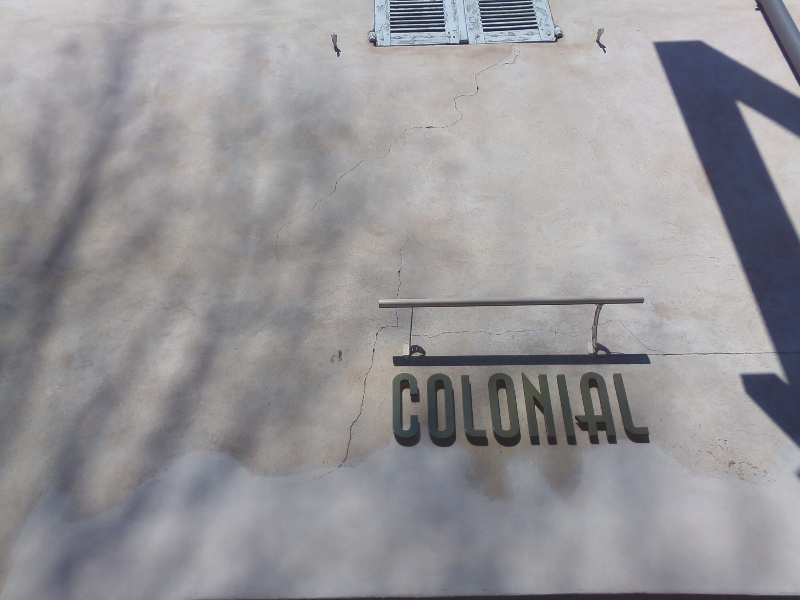text: (641, 372, 657, 451), (401, 372, 416, 451), (417, 372, 432, 451), (433, 372, 448, 451), (449, 372, 464, 451), (465, 372, 480, 451), (481, 372, 496, 451), (497, 372, 512, 451), (513, 372, 528, 451), (529, 372, 544, 451), (545, 372, 560, 451), (561, 372, 576, 451), (577, 372, 592, 451), (593, 372, 608, 451), (609, 372, 624, 451), (625, 372, 640, 451), (391, 372, 400, 451)
